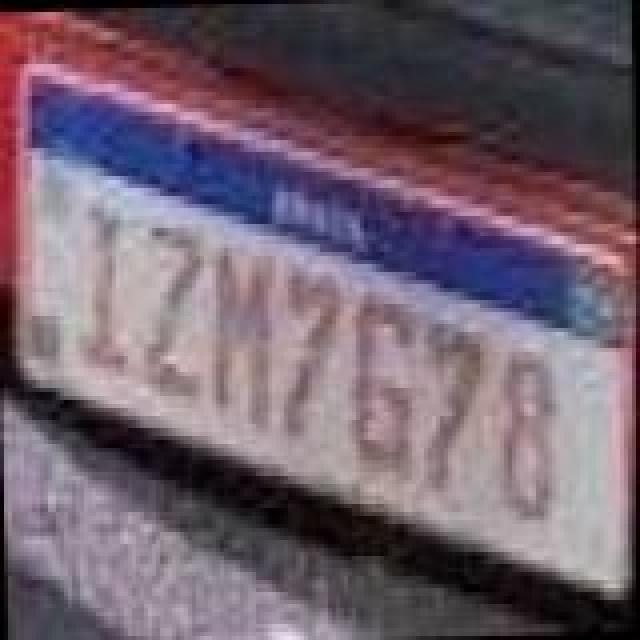7: (274, 266, 350, 438), (410, 318, 486, 490)
8: (492, 342, 560, 522)
G: (348, 286, 420, 478)
I: (70, 190, 130, 370)
M: (204, 234, 280, 426)
Z: (134, 218, 214, 402)
